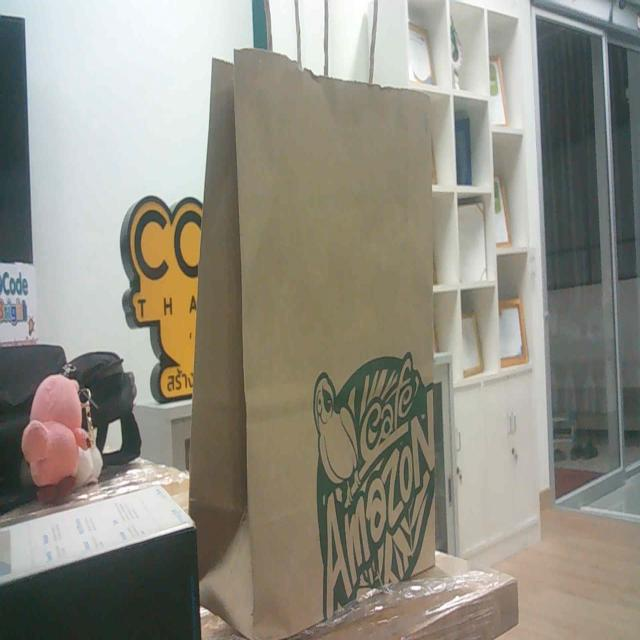bag: (194, 71, 477, 640)
